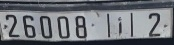0: (56, 14, 70, 39), (40, 15, 53, 39)
2: (145, 12, 166, 38), (4, 14, 21, 38)
6: (22, 13, 36, 39)
8: (74, 14, 89, 39)
a: (116, 14, 126, 38)
